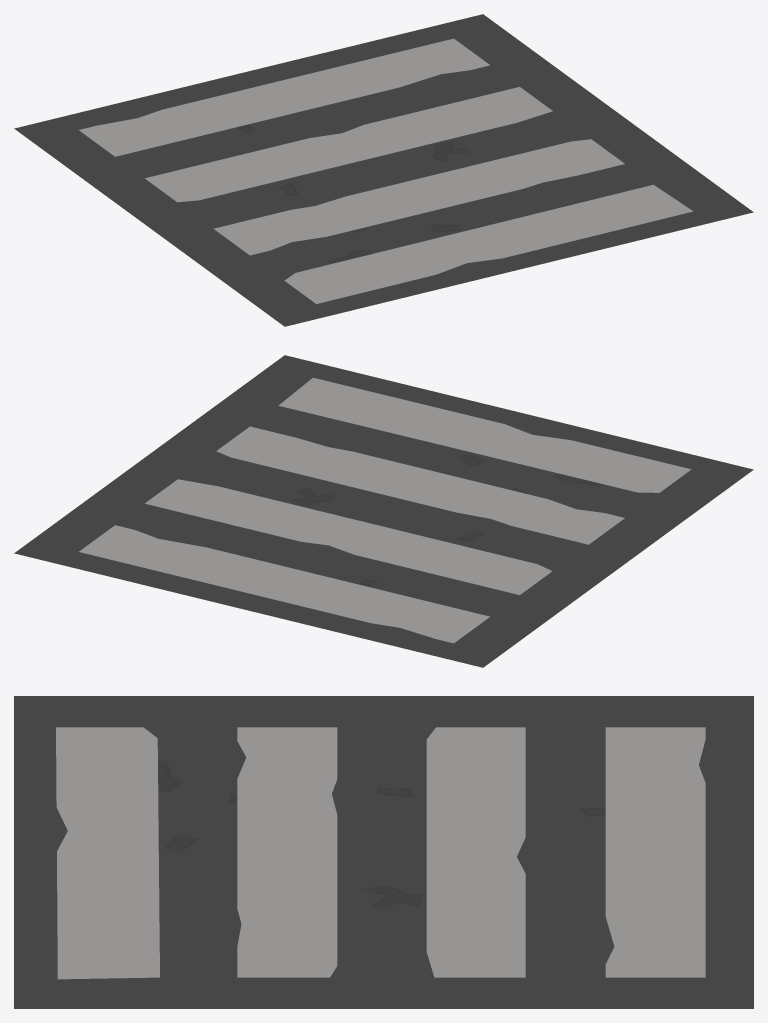
Rendered from SM_Gen_Env_Road_Crossing_01.fbx.
3 renders of one model, top to bottom at view 1: azimuth 30°, elevation 25°; view 2: azimuth 150°, elevation 25°; view 3: azimuth 270°, elevation 25°, orthographic. The views are drawn at different scales.
Parts seen in each view (by area): view 1: SM_Gen_Env_Road_Crossing_01; view 2: SM_Gen_Env_Road_Crossing_01; view 3: SM_Gen_Env_Road_Crossing_01.
Boxes of the visible parts, x1=… form: SM_Gen_Env_Road_Crossing_01: x1=14, y1=14, x2=753, y2=326; SM_Gen_Env_Road_Crossing_01: x1=14, y1=355, x2=753, y2=667; SM_Gen_Env_Road_Crossing_01: x1=14, y1=696, x2=753, y2=1008.
Bounding box in the file's own units: 500 × 4e-06 × 500.
